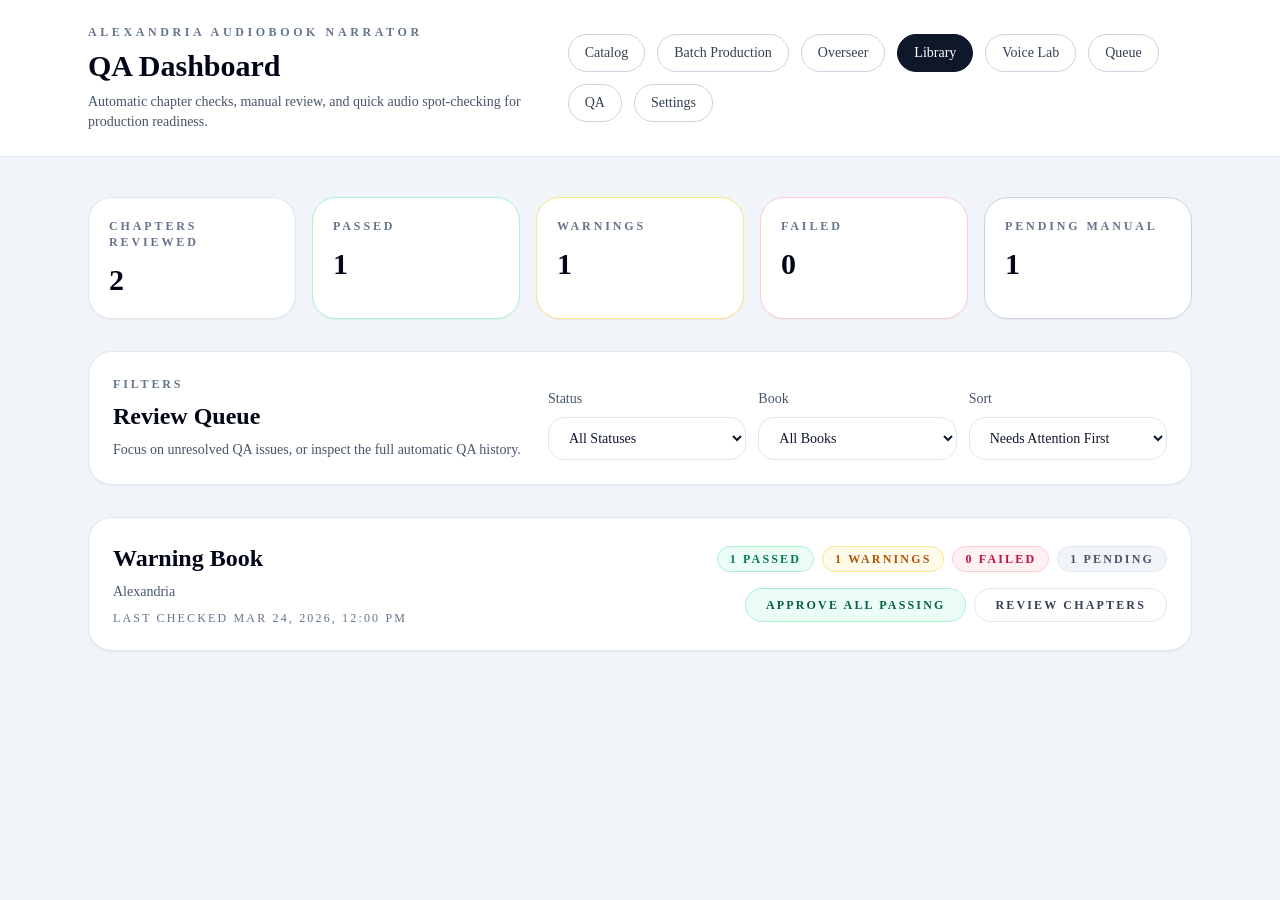
Test case: QA dashboard page › approves all passing chapters for a book
Click the button "Approve All Passing" at [856, 605], box [745,588,966,622]
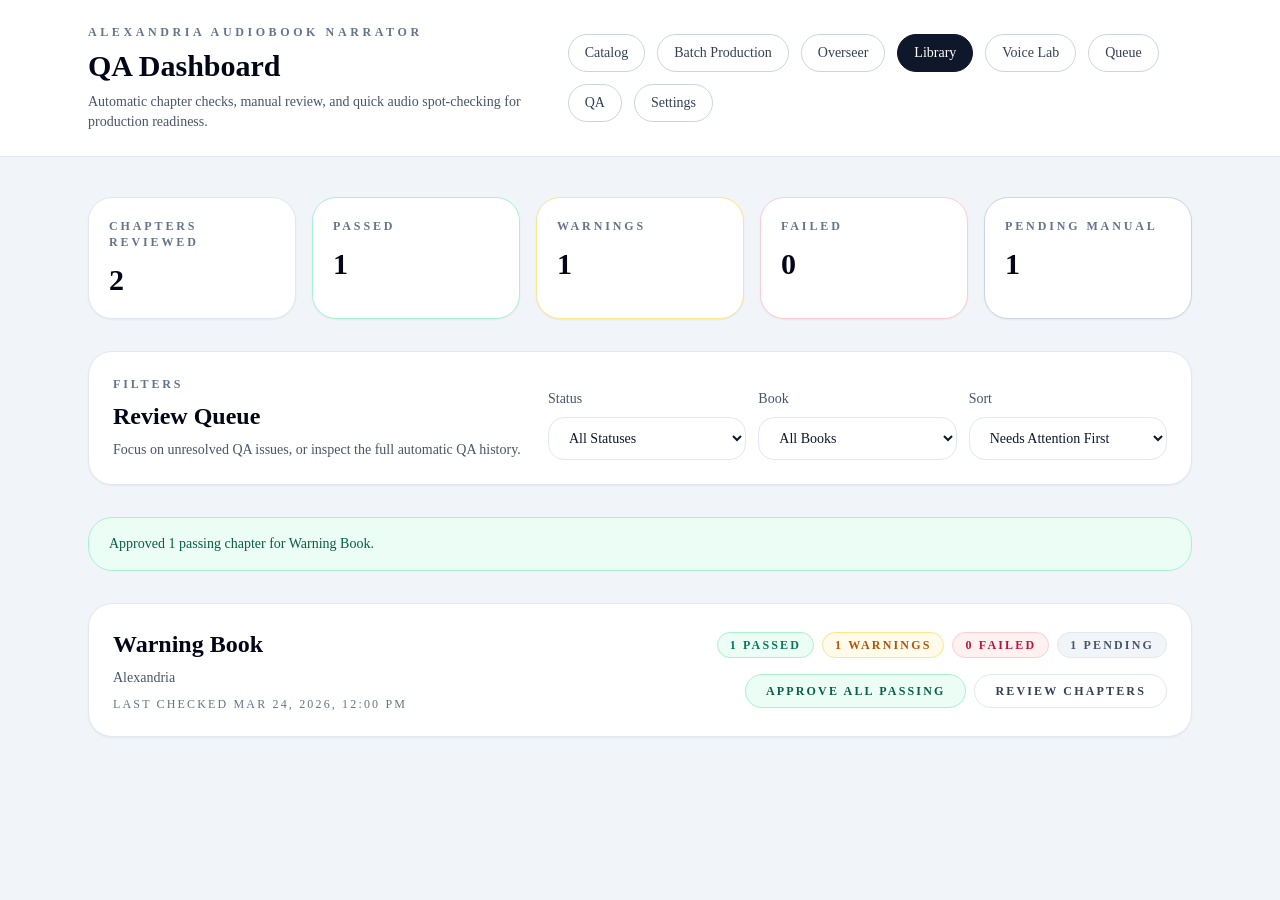
Check: the text "Approved 1 passing chapter for Warning Book." is shown, box [88,517,1192,571]
